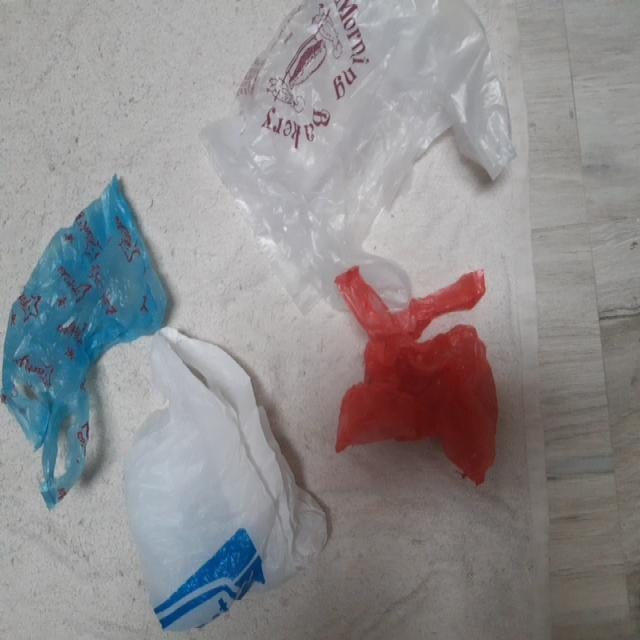Single-layer Plastic: (210, 0, 515, 308), (128, 328, 328, 629), (1, 176, 168, 507), (336, 266, 498, 484)
